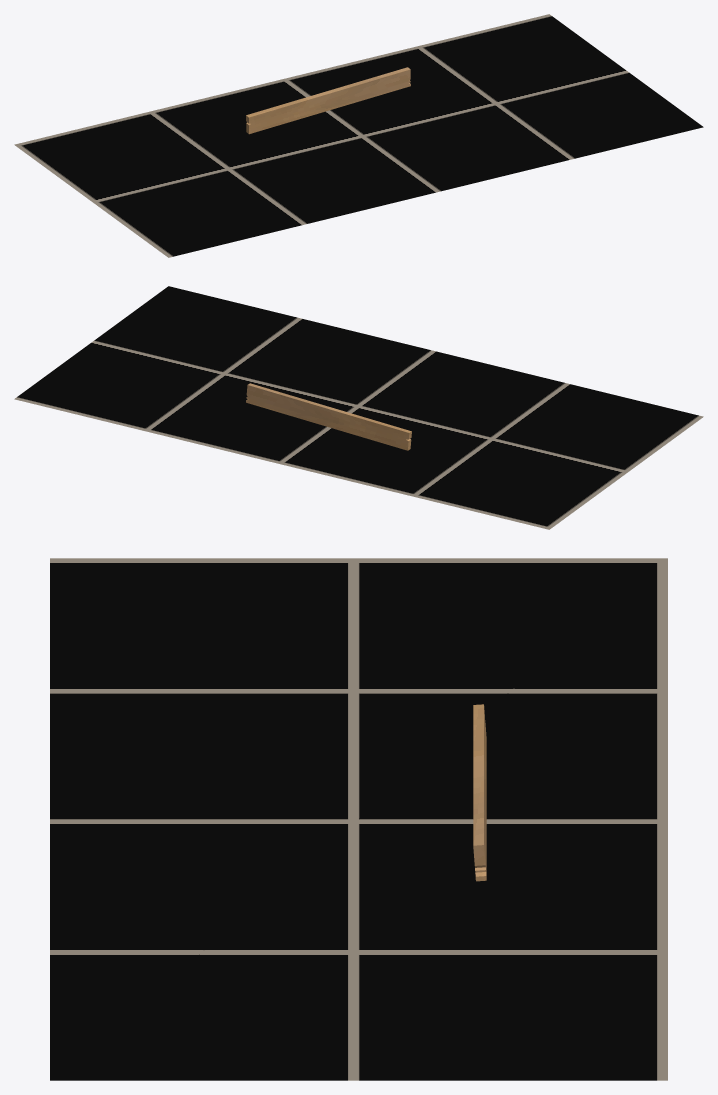
File: Docks_Railing_Board_1_1x1.glb
The picture shows the model from 3 angles, top to bottom: view 1: azimuth 30°, elevation 25°; view 2: azimuth 150°, elevation 25°; view 3: azimuth 270°, elevation 25°; orthographic projection. The views are drawn at different scales.
Visible parts, largest first — view 1: Floor, Docks_Railing_Board_1_1x1; view 2: Floor, Docks_Railing_Board_1_1x1; view 3: Floor, Docks_Railing_Board_1_1x1.
Boxes of the visible parts, x1=… form: Floor: x1=14, y1=14, x2=703, y2=257; Docks_Railing_Board_1_1x1: x1=246, y1=67, x2=410, y2=134; Floor: x1=14, y1=286, x2=703, y2=529; Docks_Railing_Board_1_1x1: x1=246, y1=383, x2=411, y2=450; Floor: x1=50, y1=558, x2=667, y2=1080; Docks_Railing_Board_1_1x1: x1=473, y1=704, x2=486, y2=881.
Bounding box in the file's own units: 400 × 18.87 × 200.
2 materials, 2 textured.
